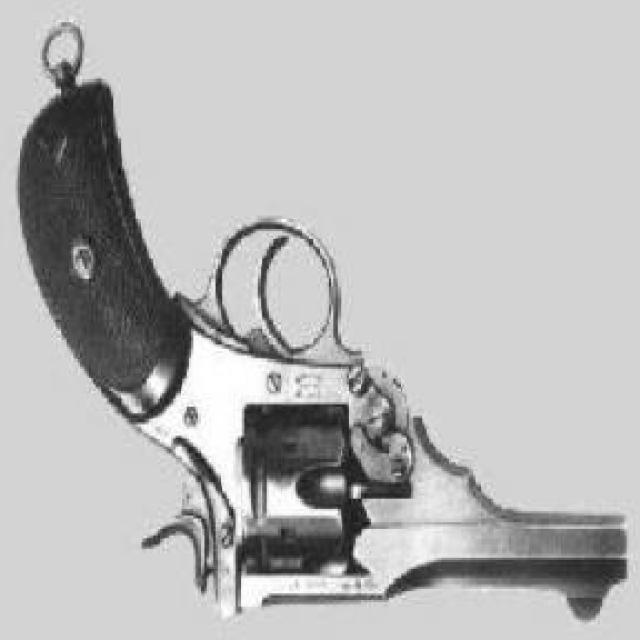pistol: (16, 92, 626, 624)
